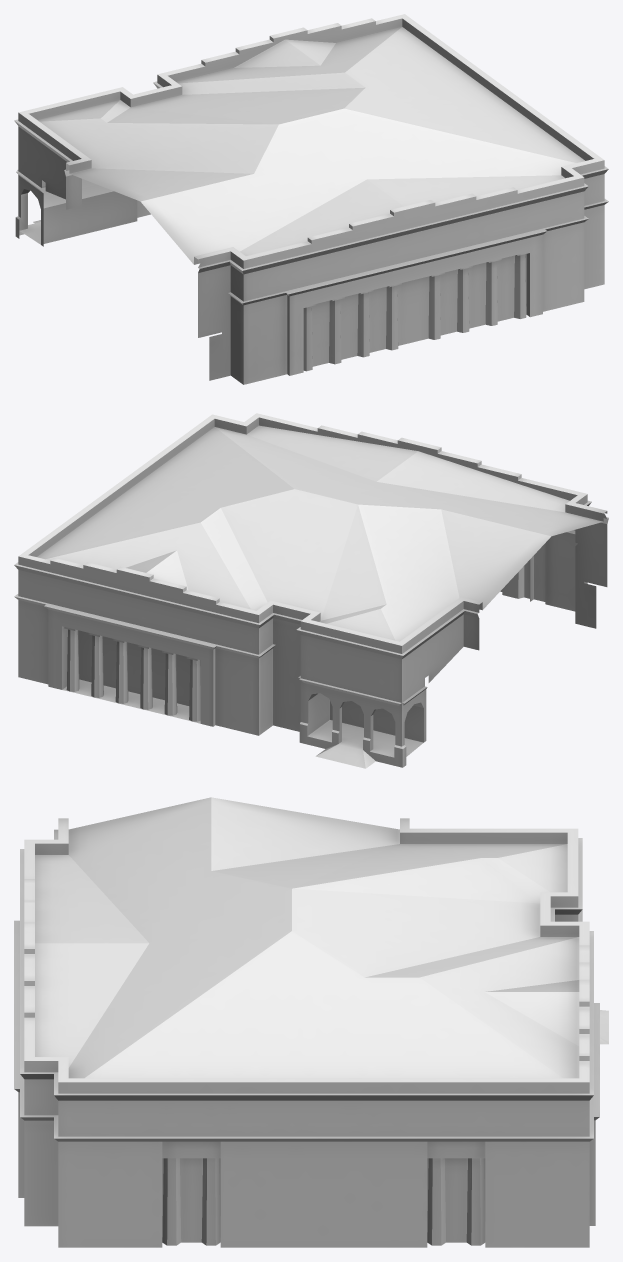
The model's file is baltiyskiyrws1.dae.
3 renders of one model, top to bottom at view 1: azimuth 30°, elevation 25°; view 2: azimuth 150°, elevation 25°; view 3: azimuth 270°, elevation 25°, orthographic. The views are drawn at different scales.
Parts seen in each view (by area): view 1: baltiyskiyrws1; view 2: baltiyskiyrws1; view 3: baltiyskiyrws1.
Boxes of the visible parts, x1,y1,x2,y2 form: baltiyskiyrws1: (14,14,608,384); baltiyskiyrws1: (14,413,608,768); baltiyskiyrws1: (14,797,608,1247).
Size of the model in its own units: 0.0804 by 0.076 by 0.0288.
1 material, 1 textured.
